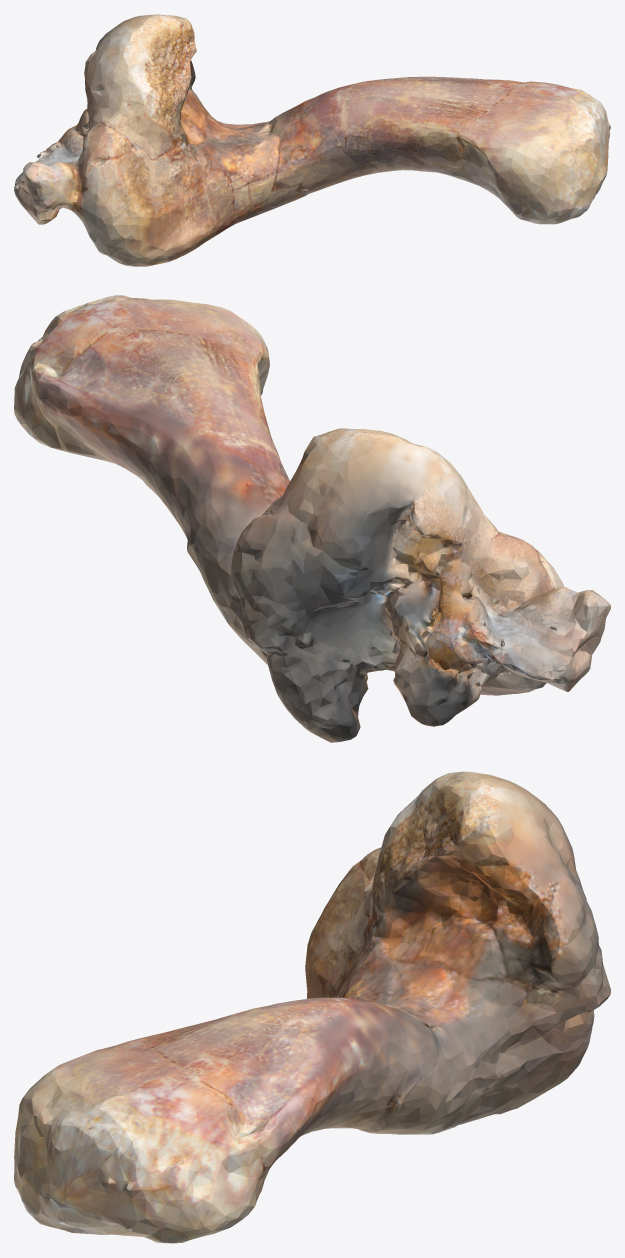
The model's file is _turtle_humerus.gltf.
The picture shows the model from 3 angles, top to bottom: view 1: azimuth 30°, elevation 25°; view 2: azimuth 150°, elevation 25°; view 3: azimuth 270°, elevation 25°; orthographic projection. The views are drawn at different scales.
Parts seen in each view (by area): view 1: turtleHumerus_7500; view 2: turtleHumerus_7500; view 3: turtleHumerus_7500.
Boxes of the visible parts, box(x1,y1,x2,y2) form: turtleHumerus_7500: box(14, 14, 610, 266); turtleHumerus_7500: box(14, 295, 610, 742); turtleHumerus_7500: box(14, 771, 610, 1243).
Bounding box in the file's own units: 0.4919 × 0.2023 × 0.344.
1 material, 1 textured.
